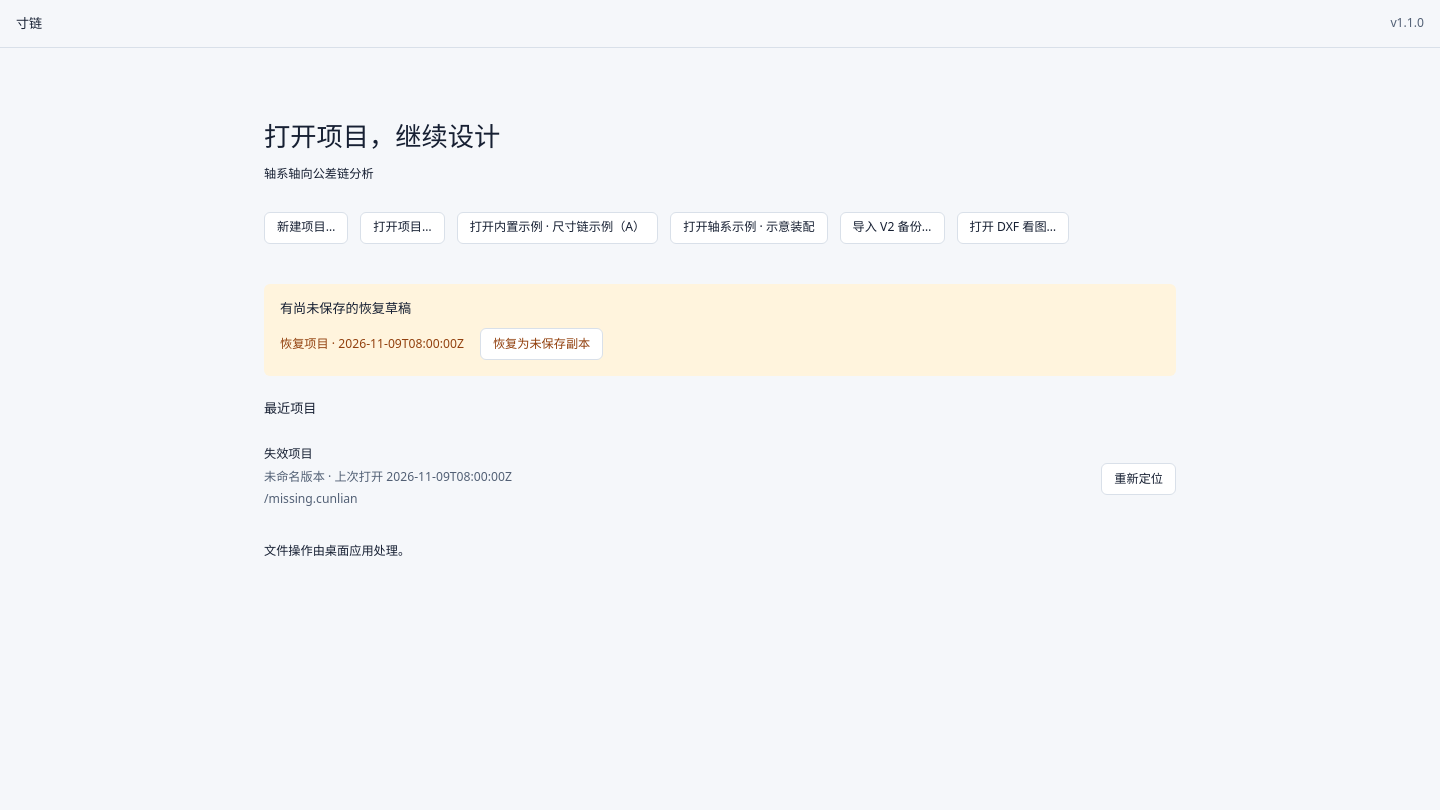
Test: A-04b 会话接线 › 打开内置示例，树/属性/复核来自快照，布局与页签保留
This screenshot has width=1440, height=810.
Later steps or results of the test are not shown.
Click the button "打开内置示例 · 尺寸链示例（A）" at (558, 228), box x1=457 y1=212 x2=658 y2=244
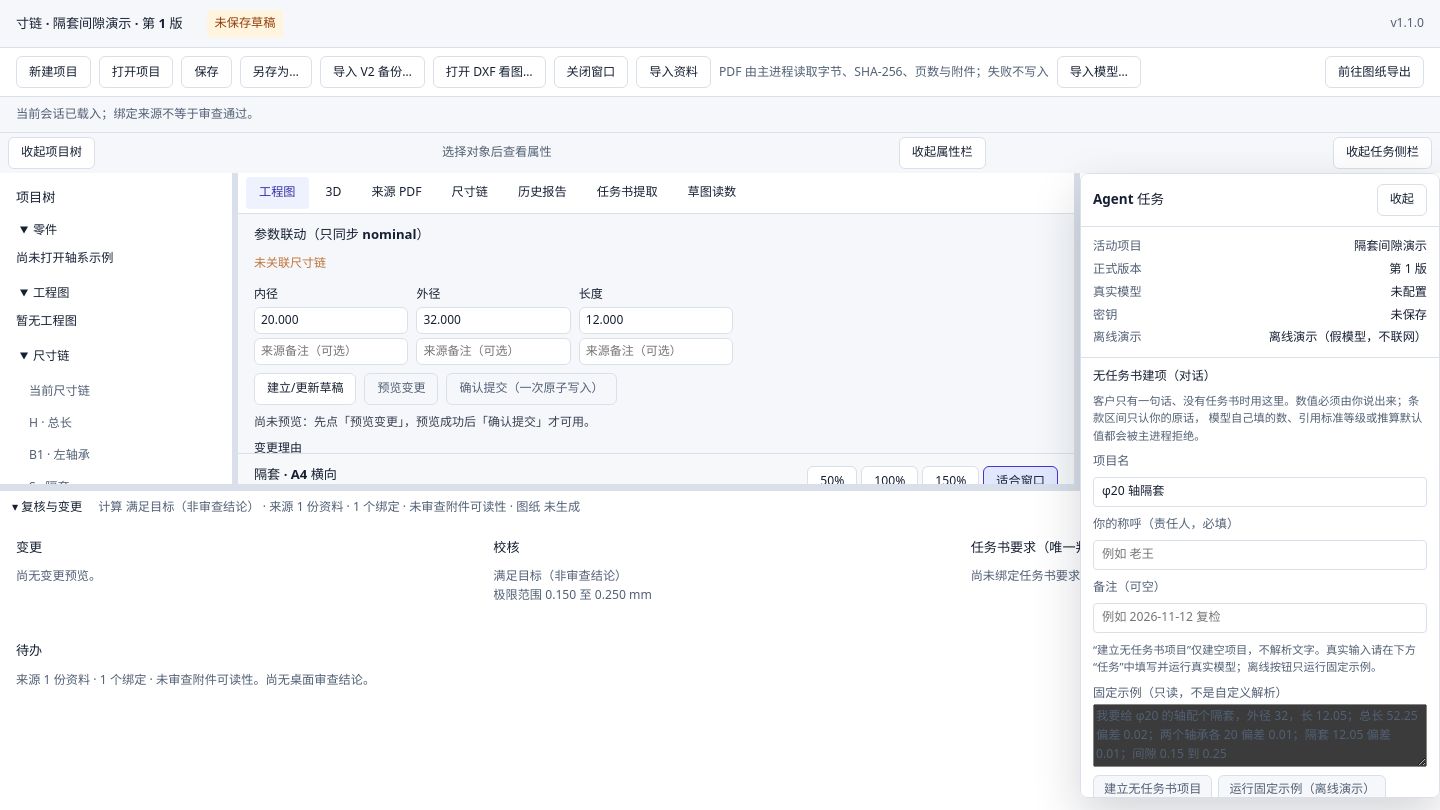
Now the element named "寸链桌面工作台" is shown
Now the button "保存" is enabled, box x1=181 y1=56 x2=232 y2=88
Now the text "未保存草稿" is shown, box x1=207 y1=10 x2=284 y2=37
Click the button "H · 总长" at (116, 423), box x1=16 y1=407 x2=216 y2=439
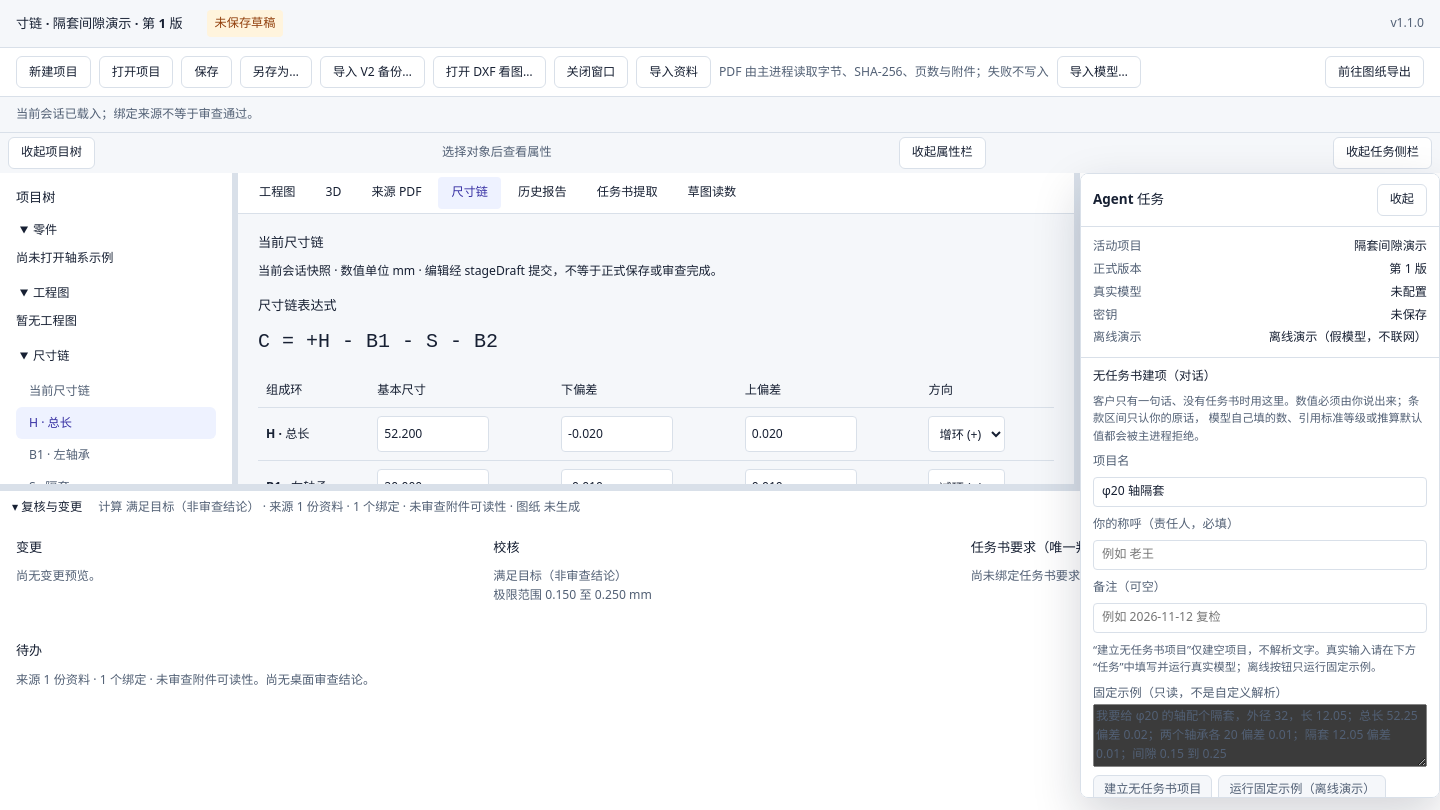
Expected: the heading "属性 · H · 总长" is shown, x1=1096 y1=188 x2=1180 y2=206
Expected: the text "52.200 mm" is shown, x1=1360 y1=337 x2=1424 y2=354
Click the tab "尺寸链" at (470, 193), box x1=438 y1=177 x2=501 y2=209
Now the tab "尺寸链" is selected, box x1=438 y1=177 x2=501 y2=209
Press ArrowRight in the element named "项目树宽度", box x1=232 y1=173 x2=238 y2=484
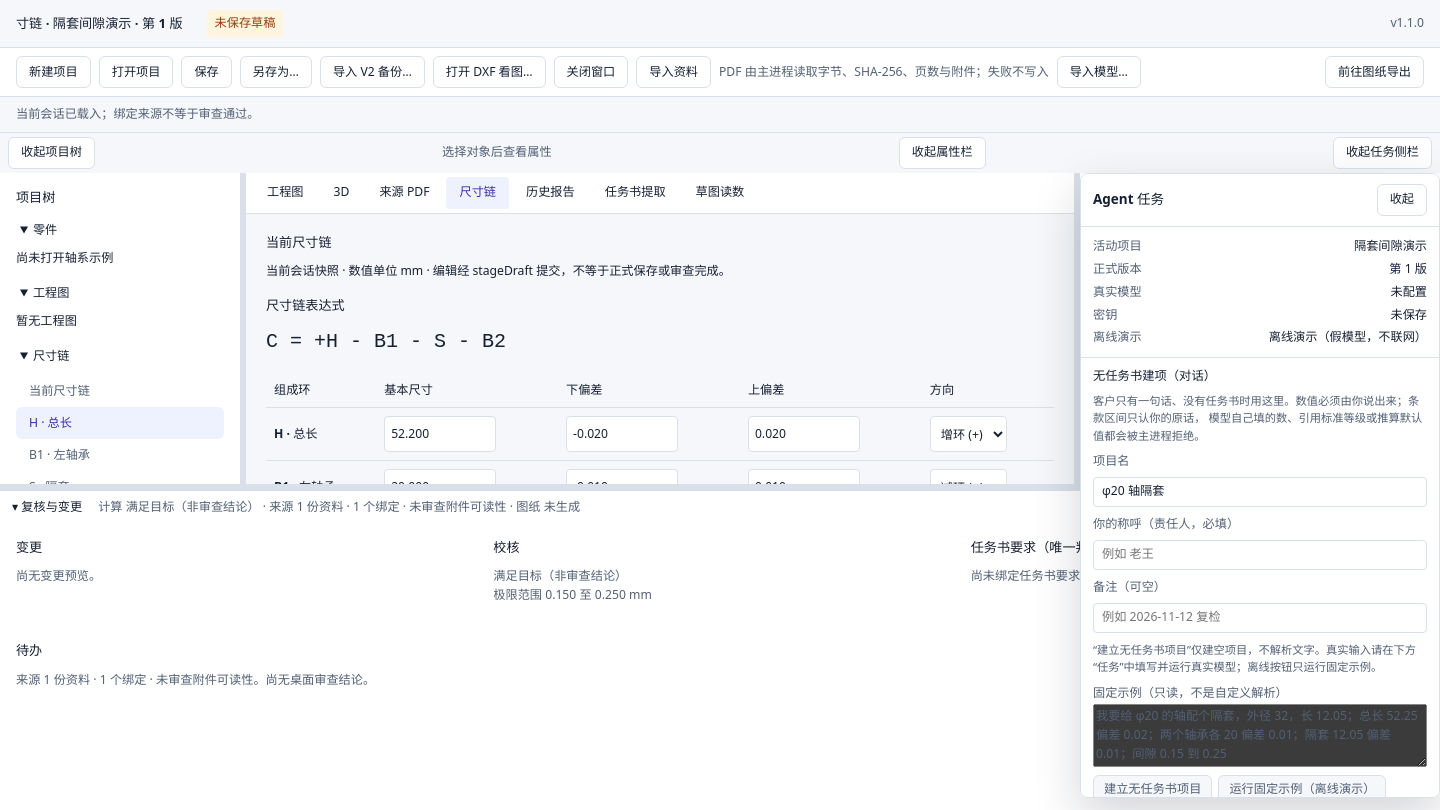
Now the element named "项目树宽度" has attribute aria-valuenow="240", box x1=240 y1=173 x2=246 y2=484
Click the button "复核与变更" at (50, 506), box x1=0 y1=491 x2=1439 y2=523
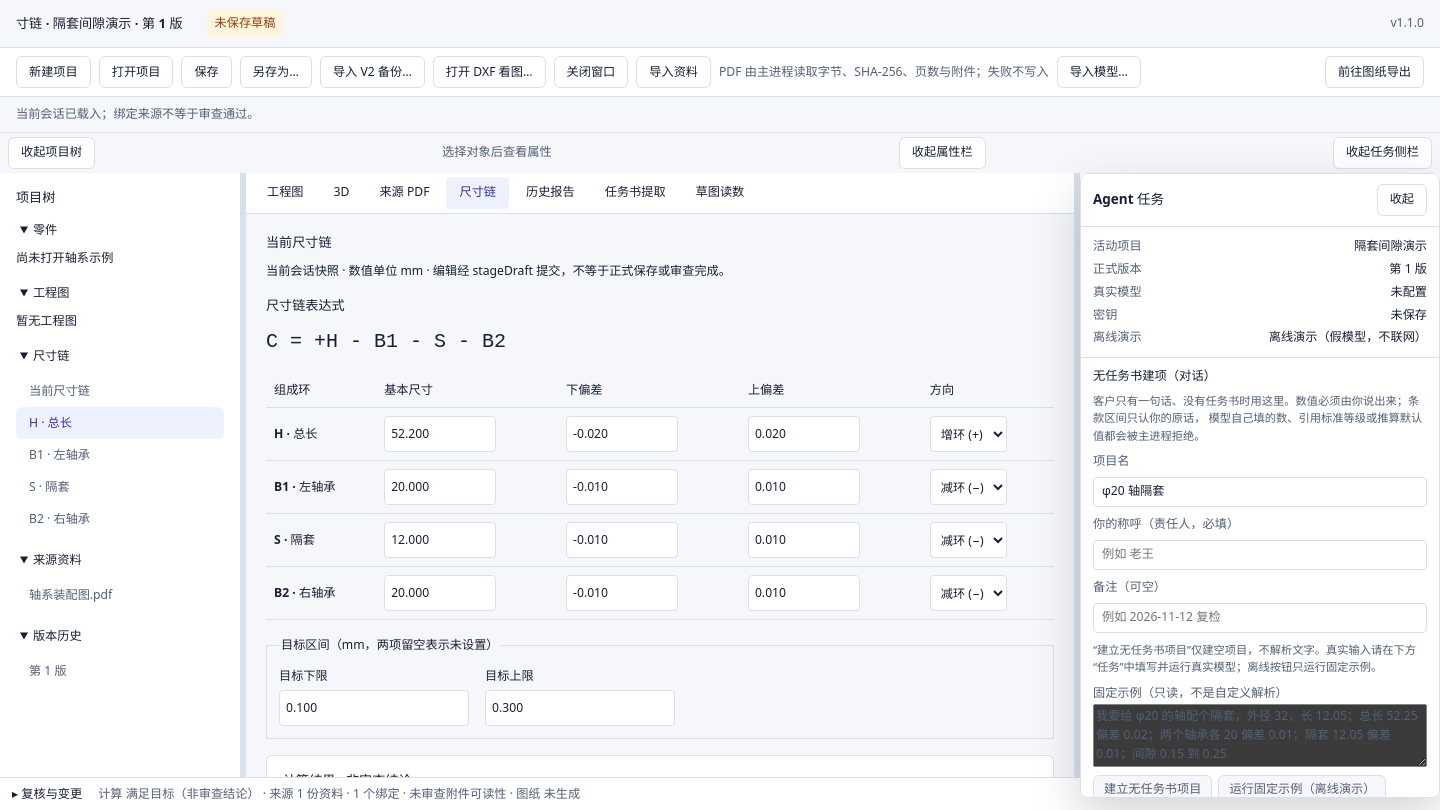
Now the button "复核与变更" shows "图纸 未生成", box x1=0 y1=778 x2=1439 y2=809
Click the button "前往图纸导出" at (1374, 72), box x1=1325 y1=56 x2=1424 y2=88
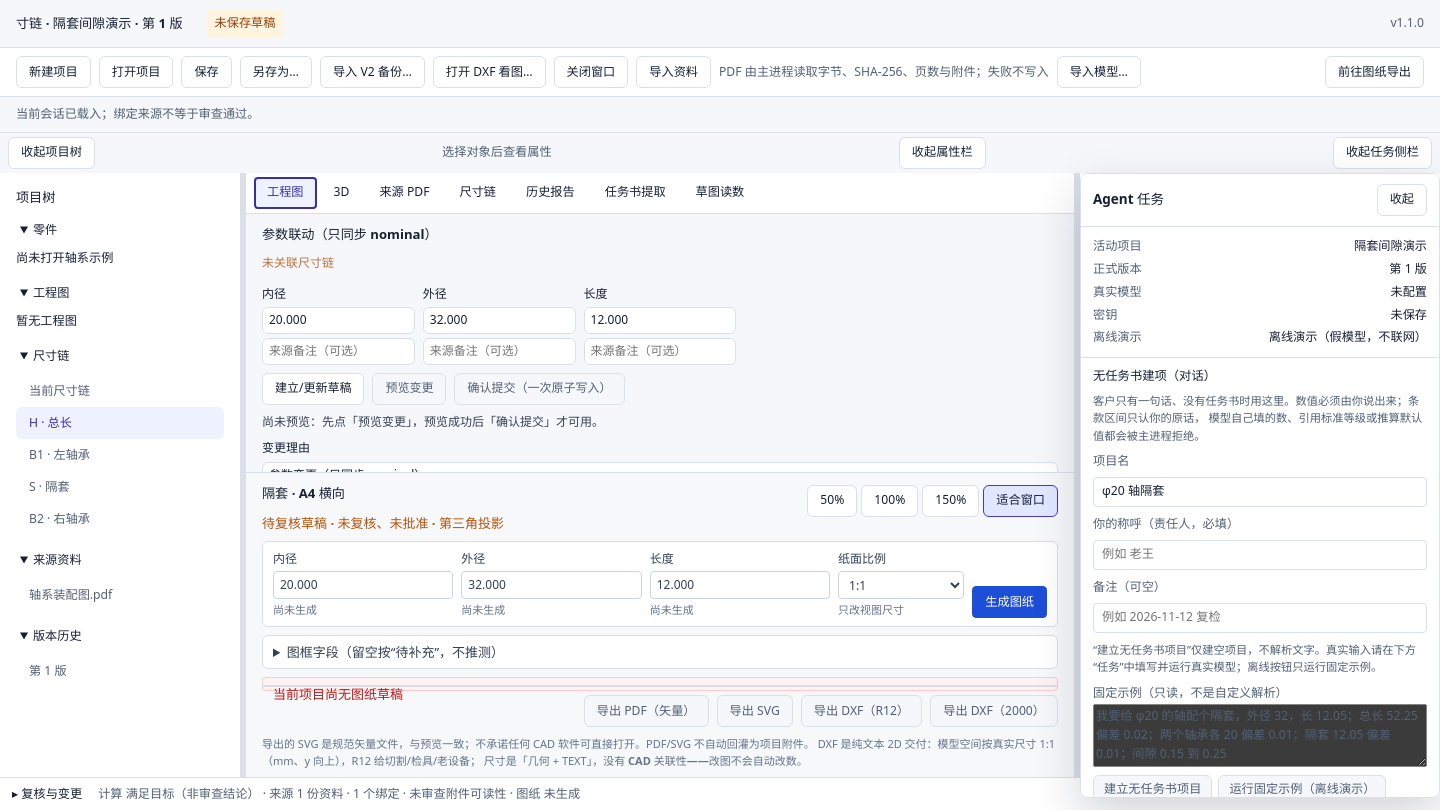
Now the tab "工程图" is selected, box x1=254 y1=177 x2=316 y2=209
